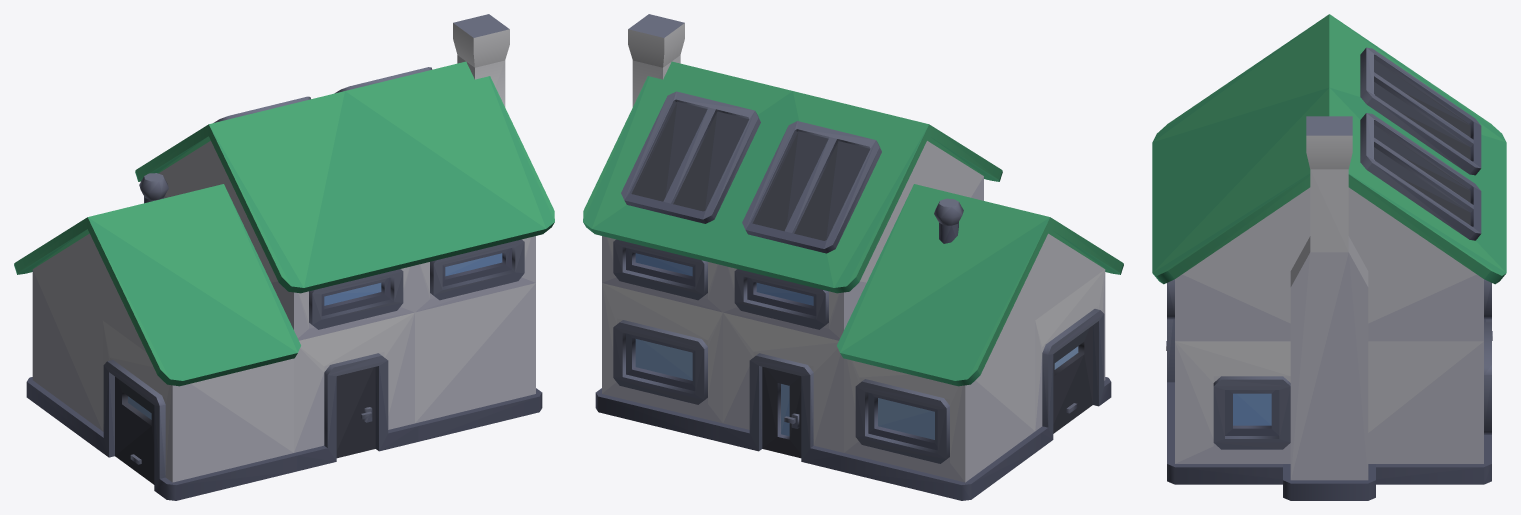
3 views of the same model, side by side, from view 1: azimuth 30°, elevation 25°; view 2: azimuth 150°, elevation 25°; view 3: azimuth 270°, elevation 25° (orthographic). The views are drawn at different scales.
Visible parts, largest first — view 1: building-type-j; view 2: building-type-j; view 3: building-type-j.
Boxes of the visible parts, x1,y1,x2,y2 form: building-type-j: [14, 14, 554, 500]; building-type-j: [583, 14, 1123, 500]; building-type-j: [1152, 14, 1506, 500].
Bounding box in the file's own units: 1.37 × 1.04 × 0.9162.
